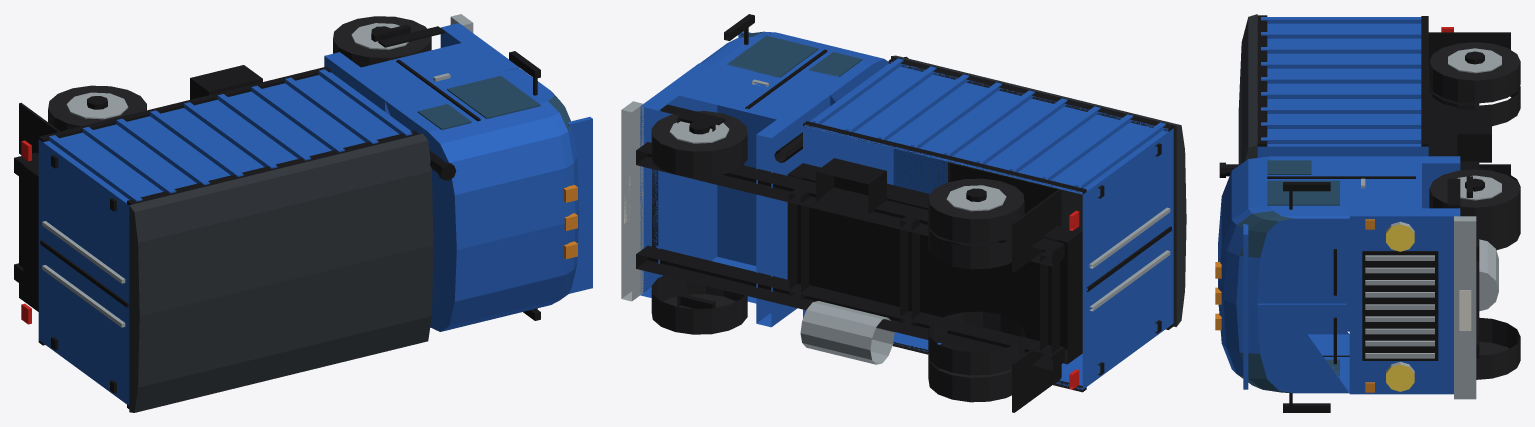
3 renders of one model, left to right at view 1: azimuth 30°, elevation 25°; view 2: azimuth 150°, elevation 25°; view 3: azimuth 270°, elevation 25°, orthographic. The views are drawn at different scales.
Visible parts, largest first — view 1: default_roof, default_body, default_cab_upper, default_cab_arch, default_rear_out1, default_front1, default_visor, default_side_window1, default_subframe, default_side1_-3.60_1.75_black, default_cab_back, default_side1_-3.60_4.30_black (+17 smaller); view 2: default_body, default_subframe, default_cab_arch, default_chassis-1, default_cab_front, default_cab_back, default_chassis1, default_rear_out1, default_front1, default_fuel_tank, default_bumper, default_cab_upper (+30 smaller); view 3: default_cab_upper, default_body, default_cab_front, default_grille, default_rear_out1, default_bumper, default_front1, default_cab_arch, default_roof, default_front-1, default_battery_box, default_subframe (+38 smaller).
Boxes of the visible parts, bbox=[...] form: default_roof: bbox=[129, 133, 433, 412]; default_body: bbox=[38, 72, 410, 405]; default_cab_upper: bbox=[385, 68, 579, 331]; default_cab_arch: bbox=[361, 43, 500, 233]; default_rear_out1: bbox=[48, 85, 146, 131]; default_front1: bbox=[333, 16, 431, 67]; default_visor: bbox=[567, 117, 592, 293]; default_side_window1: bbox=[447, 75, 540, 118]; default_subframe: bbox=[23, 162, 38, 301]; default_side1_-3.60_1.75_black: bbox=[38, 66, 330, 142]; default_cab_back: bbox=[324, 52, 399, 115]; default_side1_-3.60_4.30_black: bbox=[127, 130, 419, 205]; default_body: bbox=[803, 61, 1173, 389]; default_subframe: bbox=[787, 163, 1082, 364]; default_cab_arch: bbox=[679, 67, 814, 303]; default_chassis-1: bbox=[636, 245, 1064, 370]; default_cab_front: bbox=[640, 63, 717, 297]; default_cab_back: bbox=[756, 91, 830, 327]; default_chassis1: bbox=[636, 142, 1064, 266]; default_rear_out1: bbox=[928, 178, 1024, 243]; default_front1: bbox=[651, 111, 747, 177]; default_fuel_tank: bbox=[800, 301, 894, 364]; default_bumper: bbox=[621, 101, 643, 301]; default_cab_upper: bbox=[700, 31, 888, 105]; default_cab_upper: bbox=[1218, 156, 1349, 393]; default_body: bbox=[1257, 23, 1428, 330]; default_cab_front: bbox=[1349, 208, 1460, 394]; default_grille: bbox=[1362, 251, 1438, 360]; default_rear_out1: bbox=[1429, 42, 1520, 103]; default_bumper: bbox=[1454, 216, 1476, 399]; default_front1: bbox=[1429, 169, 1520, 231]; default_cab_arch: bbox=[1349, 163, 1421, 208]; default_roof: bbox=[1238, 14, 1257, 164]; default_front-1: bbox=[1476, 317, 1520, 379]; default_battery_box: bbox=[1457, 109, 1491, 162]; default_subframe: bbox=[1428, 65, 1457, 156].
Size of the model in its own units: 7.61 by 3.98 by 4.82.
